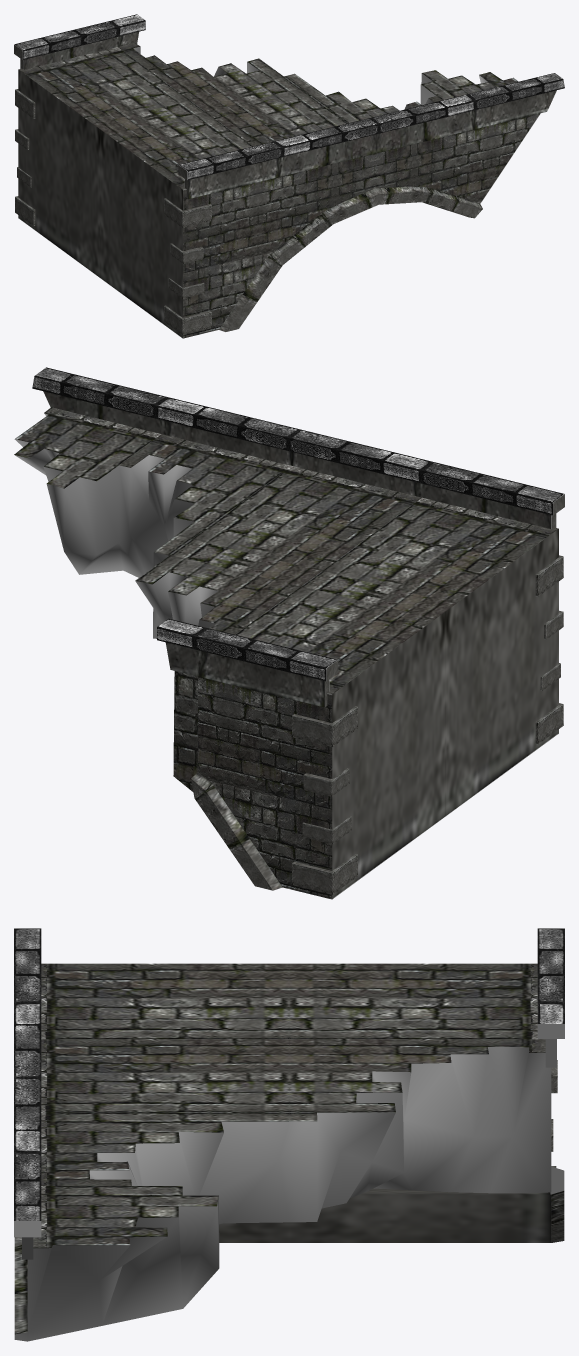
The model's file is stone_lod_rock_broken.FBX.
3 views of the same model, one above another, from view 1: azimuth 30°, elevation 25°; view 2: azimuth 150°, elevation 25°; view 3: azimuth 270°, elevation 25° (orthographic). The views are drawn at different scales.
Parts seen in each view (by area): view 1: Object001z; view 2: Object001z; view 3: Object001z.
Boxes of the visible parts, x1,y1,x2,y2 form: Object001z: [14, 14, 564, 338]; Object001z: [14, 367, 564, 899]; Object001z: [14, 928, 564, 1341].
Bounding box in the file's own units: 720 × 309 × 568.
